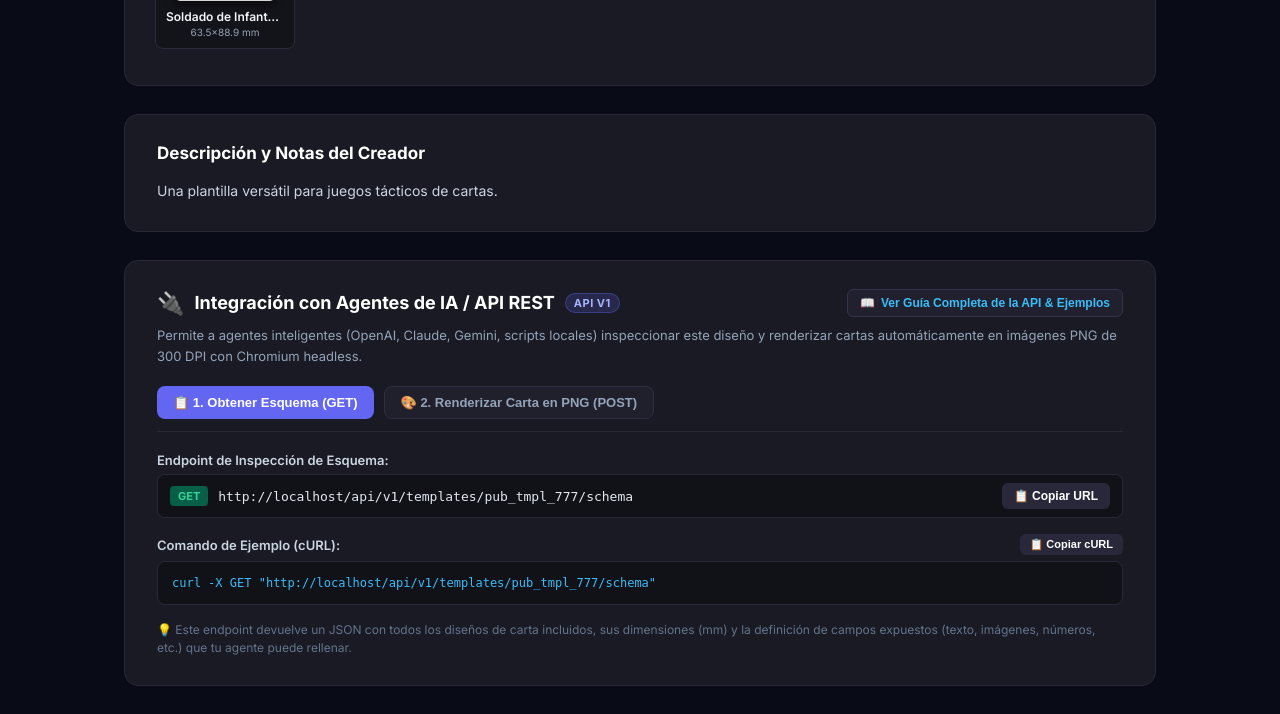
Test: SRS-077: Panel de Integración con Agentes de IA en Tienda › debe alternar a la pestaña de renderizado POST y mostrar payload JSON con diseño de carta
(page scrolled)
# Hacer clic en la pestaña de renderizado
Click the button with test id "tab-render" at (519, 403), box [384,386,654,419]
(page scrolled)
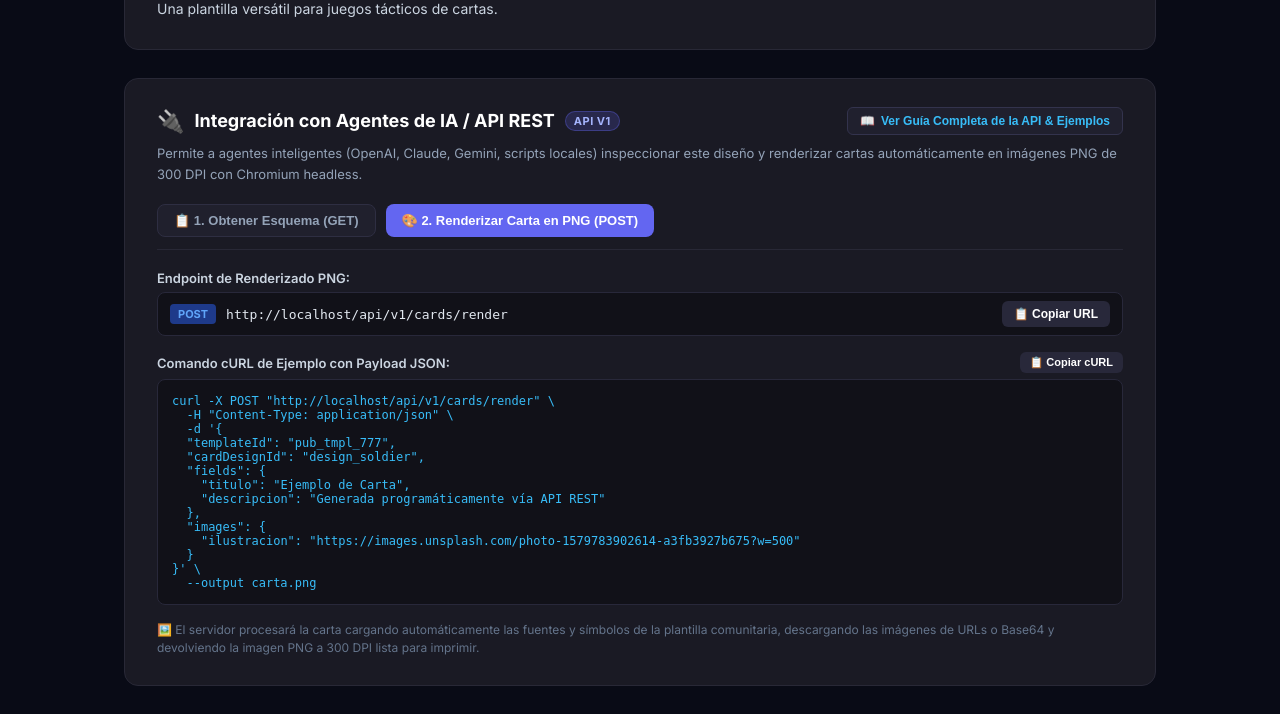
Expected: the element with test id "render-panel" is shown, [157,270,1123,657]
Expected: the text "http://localhost/api/v1/cards/render" is shown, [226,307,508,322]
Expected: the text "design_soldier" is shown, [172,394,801,590]
